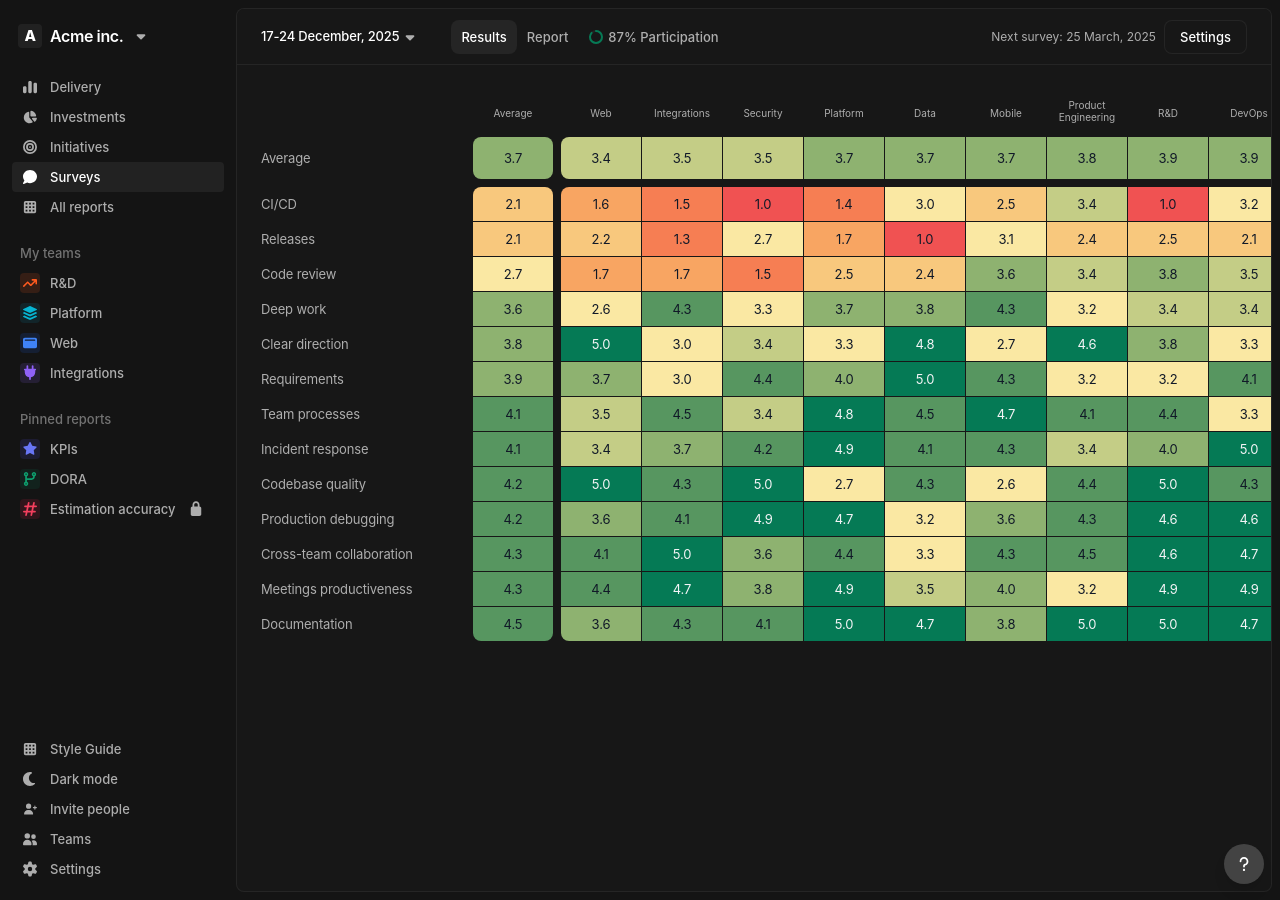
Test: surveys results page › opens the details panel when a heatmap cell is clicked
Click the text named "requirements / average:" at (513, 379), box [473,362,553,396]
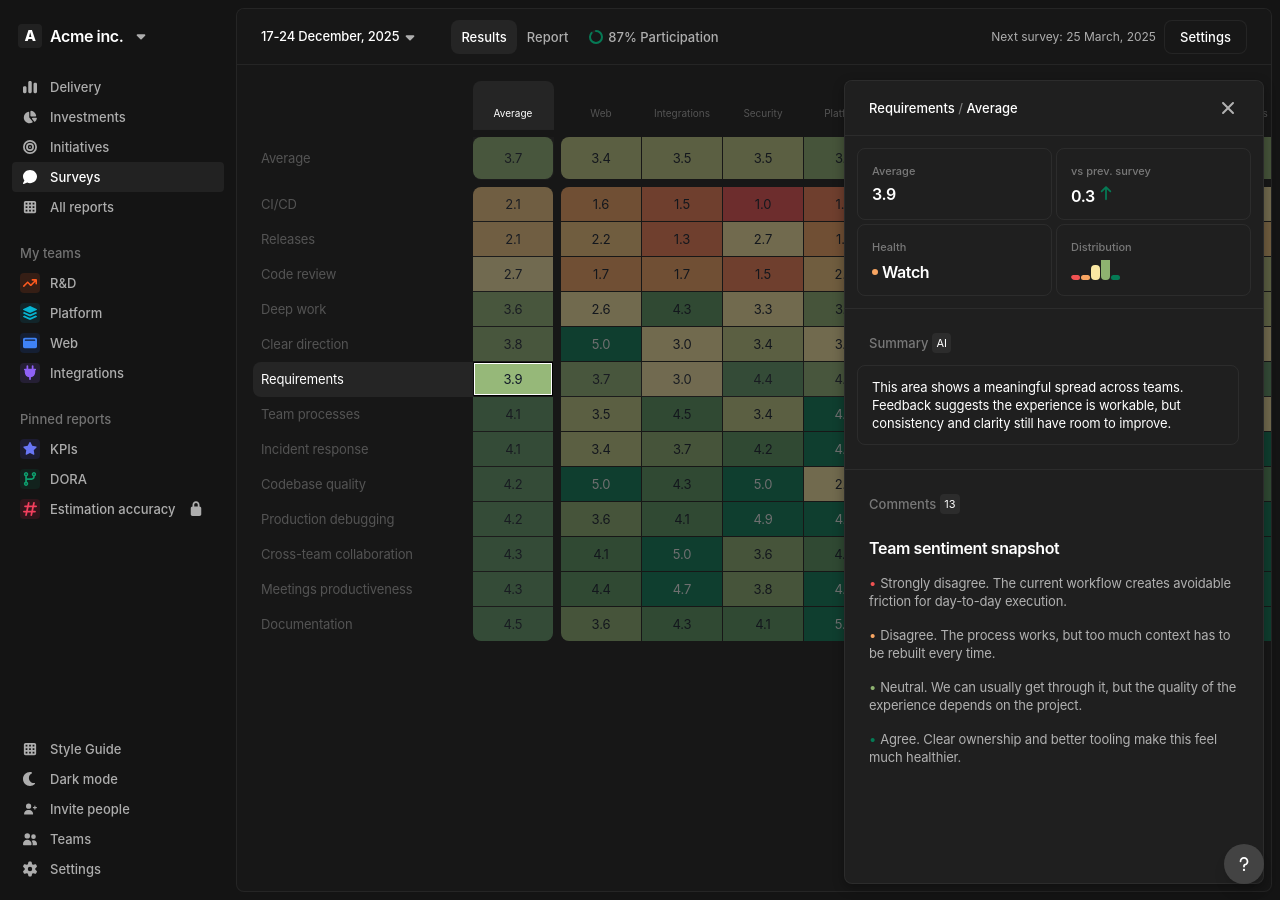
Check: the element named "survey cell details" is shown, box [844,80,1264,884]
Check: the text "Summary" is shown, box [869,334,928,352]
Check: the text "Comments" is shown, box [869,495,936,513]
